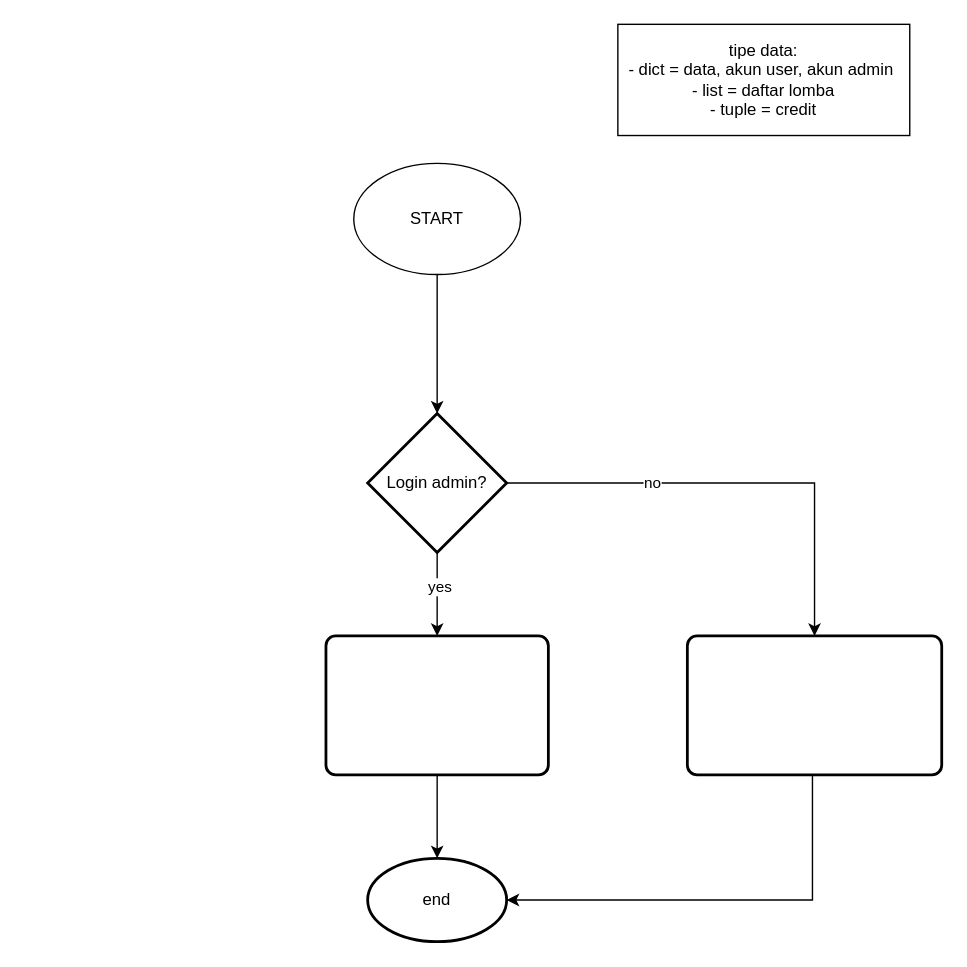
This 967x967 diagram has some shape labels left out. The centre of each missing label's shape, as x and y in pixels:
LOGIN ADMIN: the point at 436,705
LOGIN USER: the point at 813,705
